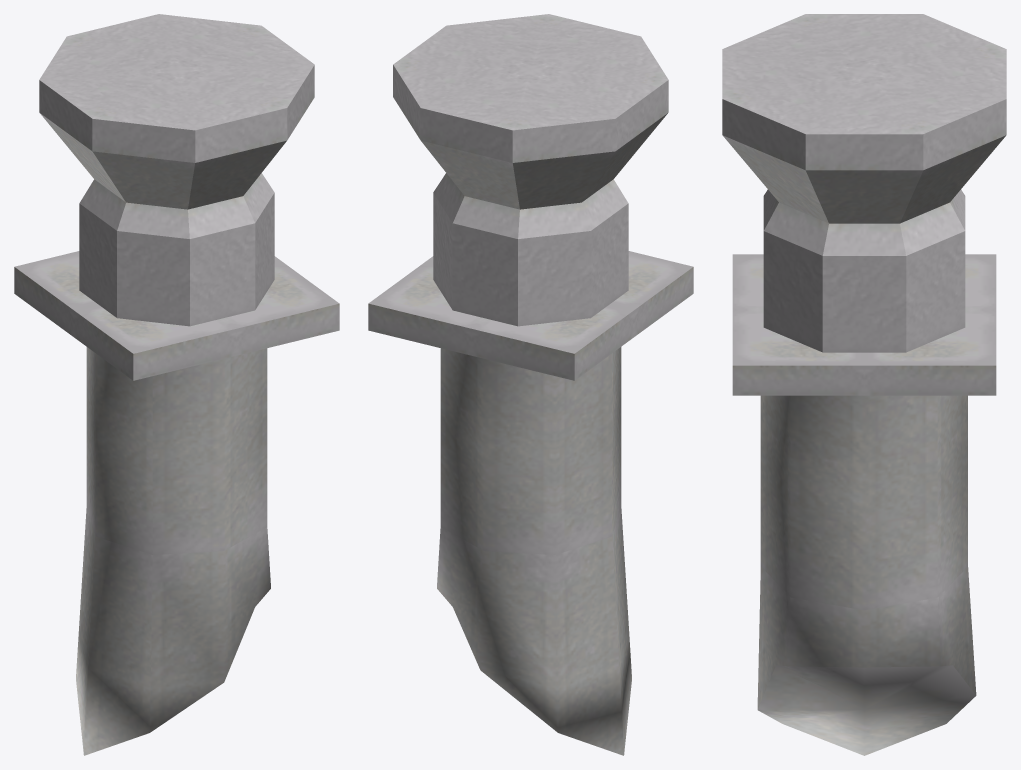
The model's file is general_obj_bigtower02.glb.
3 renders of one model, left to right at view 1: azimuth 30°, elevation 25°; view 2: azimuth 150°, elevation 25°; view 3: azimuth 270°, elevation 25°, orthographic. The views are drawn at different scales.
Visible parts, largest first — view 1: Sphere01; view 2: Sphere01; view 3: Sphere01.
Boxes of the visible parts, x1=… form: Sphere01: x1=14, y1=14, x2=339, y2=755; Sphere01: x1=368, y1=14, x2=693, y2=755; Sphere01: x1=722, y1=14, x2=1006, y2=755.
Bounding box in the file's own units: 4.31 × 12.3 × 4.31.
1 material, 1 textured.
